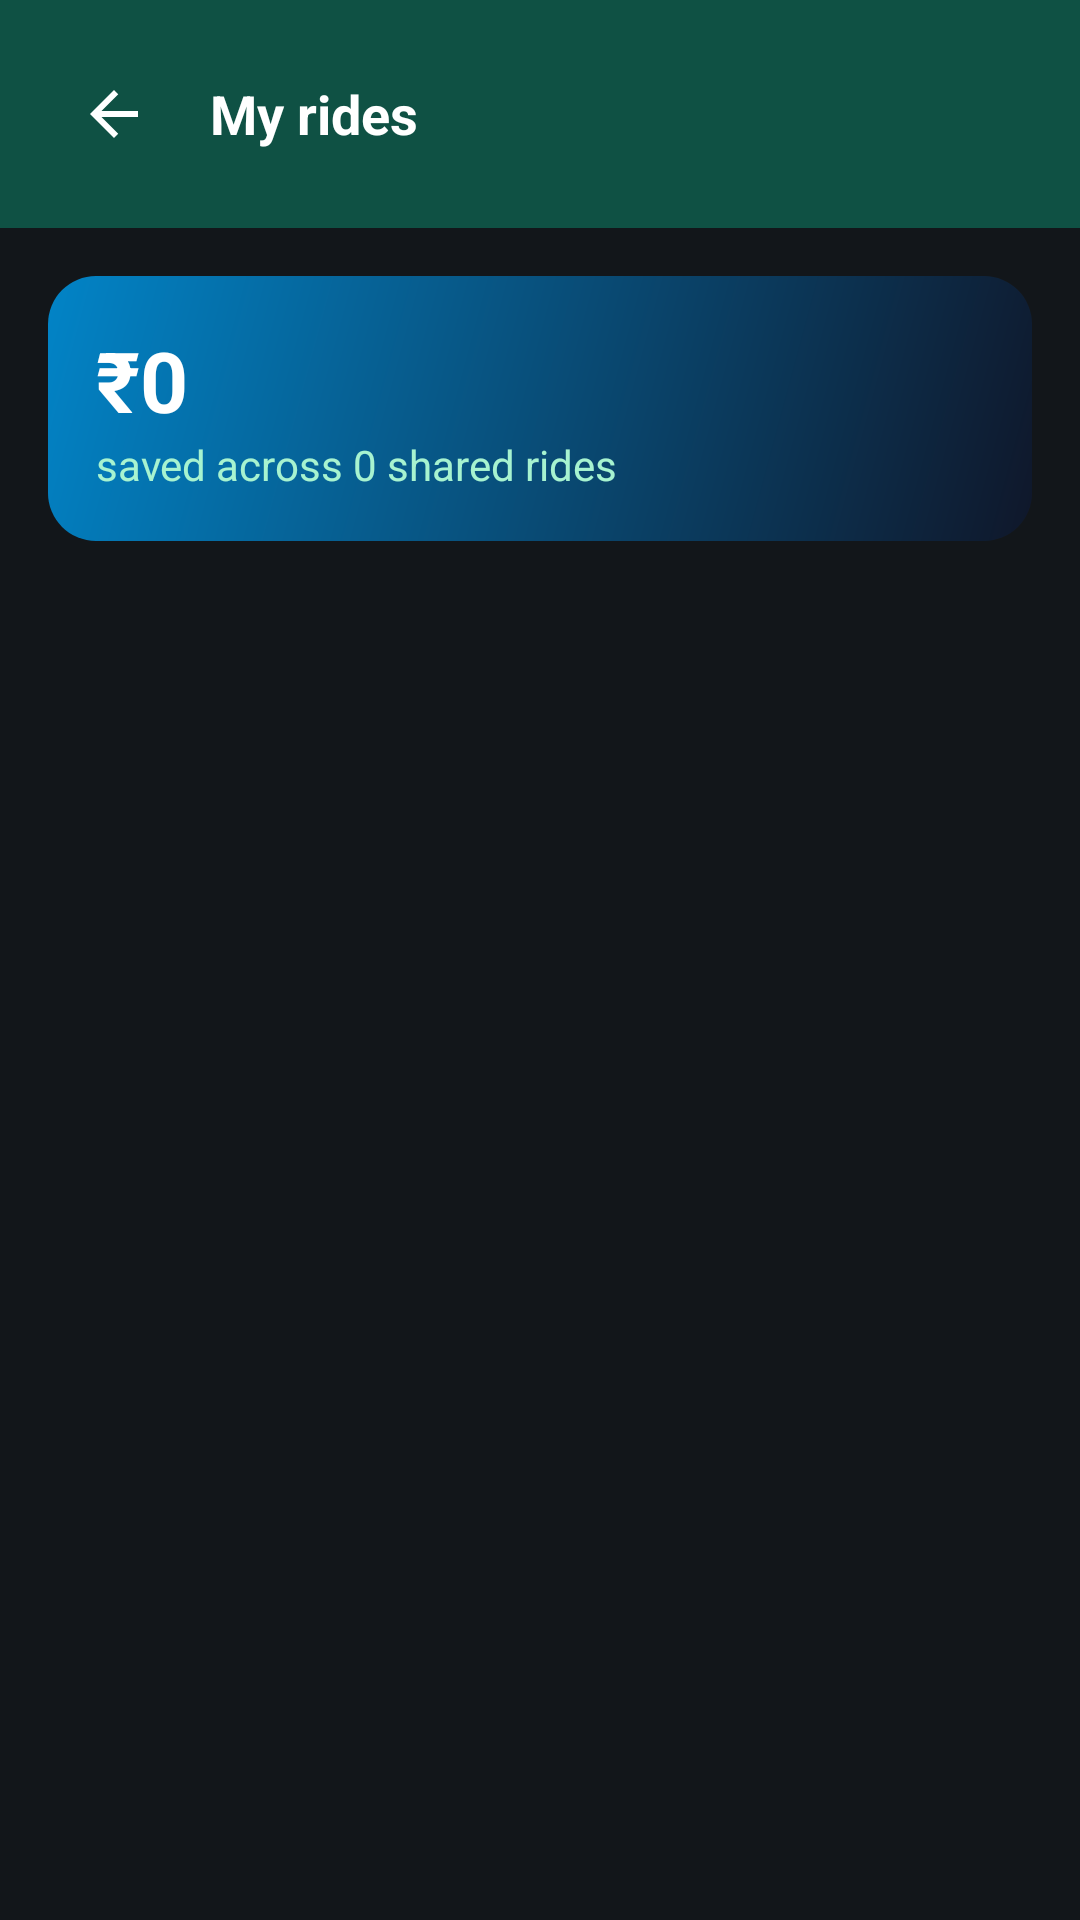

Screen size 1080x1920. Icon name, then its center in pixels as (x=x, y=y):
Back: (x=114, y=114)
